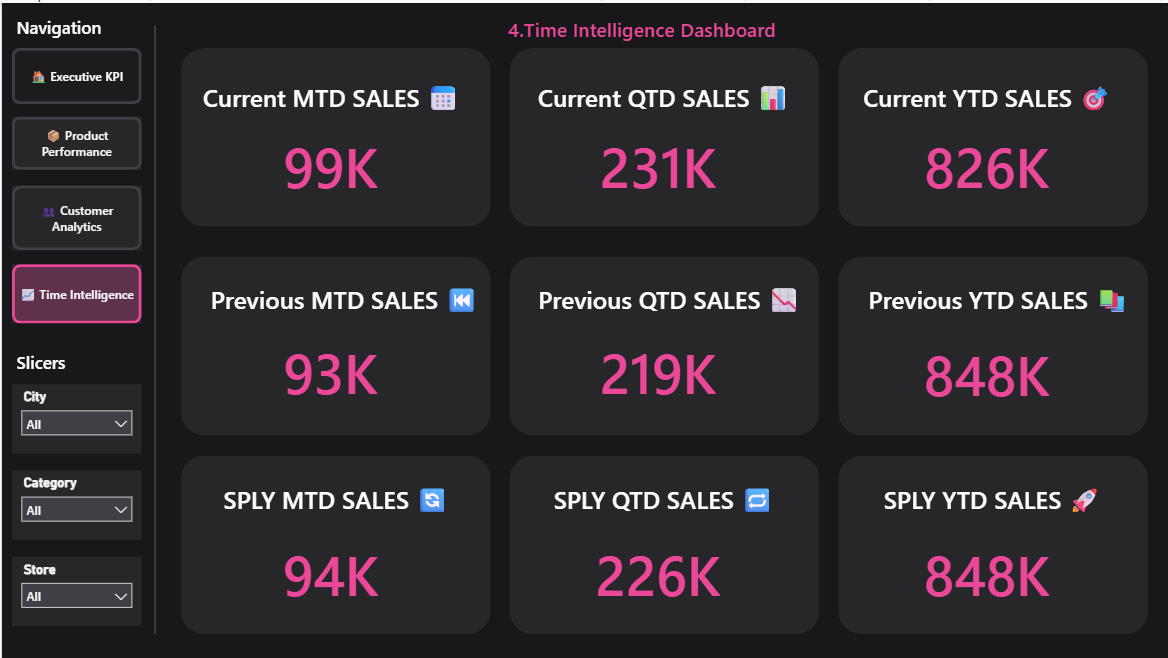

What the dashboard file says about the page in this screenshot:
{"tool":"powerbi","page":{"name":"Time Intelligence","canvas":[1280,720],"ordinal":4},"visuals":[{"type":"textbox","box":[10.7,9.5,118.4,40.3],"z":0},{"type":"actionButton","box":[10.7,49.7,142.1,61.6],"z":1000},{"type":"actionButton","box":[10.7,124.4,142.1,58],"z":2000},{"type":"actionButton","box":[10.7,200.1,142.1,71.1],"z":3000},{"type":"actionButton","box":[10.7,286.6,142.1,65.1],"z":4000},{"type":"textbox","box":[10.7,377.8,118.4,40.3],"z":5000},{"type":"slicer","fields":{"Values":["Fact_Sales.City"]},"box":[10.7,418.1,142.1,75.8],"z":6000},{"type":"slicer","fields":{"Values":["Fact_Sales.Category"]},"box":[10.7,512.8,142.1,75.8],"z":7000},{"type":"slicer","fields":{"Values":["Fact_Sales.Store"]},"box":[10.7,607.5,142.1,75.8],"z":8000},{"type":"shape","box":[99.5,24.9,138.6,667.9],"z":9000},{"type":"textbox","box":[183.6,9.5,1037.5,40.3],"z":10000},{"type":"shape","box":[196.2,49.4,340.3,196.2],"z":11000},{"type":"shape","box":[557.1,49.4,340.3,196.2],"z":12000},{"type":"shape","box":[918,49.4,340.3,196.2],"z":13000},{"type":"shape","box":[918,278.6,340.3,196.2],"z":14000},{"type":"shape","box":[557.1,278.6,340.3,196.2],"z":15000},{"type":"shape","box":[196.2,278.6,340.3,196.2],"z":16000},{"type":"shape","box":[918,496.7,340.3,196.2],"z":17000},{"type":"shape","box":[557.1,496.7,340.3,196.2],"z":18000},{"type":"shape","box":[196.2,496.7,340.3,196.2],"z":19000},{"type":"cardVisual","fields":{"Data":["Time intelligence.current_mtd"]},"box":[215.4,124.9,304.6,111.1],"z":20000},{"type":"cardVisual","fields":{"Data":["Time intelligence.current_ytd"]},"box":[935.9,124.9,304.6,111.1],"z":21000},{"type":"cardVisual","fields":{"Data":["Time intelligence.current_qtd"]},"box":[575,124.9,304.6,111.1],"z":22000},{"type":"cardVisual","fields":{"Data":["Time intelligence.prev_ytd"]},"box":[935.9,352.7,304.6,111.1],"z":23000},{"type":"cardVisual","fields":{"Data":["Time intelligence.prev_qtd"]},"box":[575,351.3,304.6,111.1],"z":24000},{"type":"cardVisual","fields":{"Data":["Time intelligence.prev_mtd"]},"box":[215.4,351.3,304.6,111.1],"z":25000},{"type":"cardVisual","fields":{"Data":["Time intelligence.sply_ytd"]},"box":[935.9,572.2,304.6,111.1],"z":26000},{"type":"cardVisual","fields":{"Data":["Time intelligence.sply_qtd"]},"box":[575,572.2,304.6,111.1],"z":27000},{"type":"cardVisual","fields":{"Data":["Time intelligence.sply_mtd"]},"box":[215.4,572.2,304.6,111.1],"z":28000},{"type":"textbox","box":[215.4,81,292.3,57.6],"z":29000},{"type":"textbox","box":[580.4,81,292.3,57.6],"z":30000},{"type":"textbox","box":[935.9,81,292.3,57.6],"z":31000},{"type":"textbox","box":[935.9,301.9,315.6,57.6],"z":32000},{"type":"textbox","box":[575,301.9,315.6,57.6],"z":33000},{"type":"textbox","box":[215.4,301.9,321.1,57.6],"z":34000},{"type":"textbox","box":[941.3,521.4,292.3,57.6],"z":35000},{"type":"textbox","box":[580.4,521.4,292.3,57.6],"z":36000},{"type":"textbox","box":[220.9,521.4,292.3,57.6],"z":37000}]}

Visuals, with their boxes on the page's 1280x720 design canvas (x1, y1, x2, y2). These are canvas units, not pixel positions in the 1168x658 screenshot, which may show the page scaled, cropped or inside an application window:
textbox: 11 10 129 50
actionButton: 11 50 153 111
actionButton: 11 124 153 182
actionButton: 11 200 153 271
actionButton: 11 287 153 352
textbox: 11 378 129 418
slicer - Fact_Sales.City: 11 418 153 494
slicer - Fact_Sales.Category: 11 513 153 589
slicer - Fact_Sales.Store: 11 608 153 683
shape: 100 25 238 693
textbox: 184 10 1221 50
shape: 196 49 536 246
shape: 557 49 897 246
shape: 918 49 1258 246
shape: 918 279 1258 475
shape: 557 279 897 475
shape: 196 279 536 475
shape: 918 497 1258 693
shape: 557 497 897 693
shape: 196 497 536 693
cardVisual - Time intelligence.current_mtd: 215 125 520 236
cardVisual - Time intelligence.current_ytd: 936 125 1240 236
cardVisual - Time intelligence.current_qtd: 575 125 880 236
cardVisual - Time intelligence.prev_ytd: 936 353 1240 464
cardVisual - Time intelligence.prev_qtd: 575 351 880 462
cardVisual - Time intelligence.prev_mtd: 215 351 520 462
cardVisual - Time intelligence.sply_ytd: 936 572 1240 683
cardVisual - Time intelligence.sply_qtd: 575 572 880 683
cardVisual - Time intelligence.sply_mtd: 215 572 520 683
textbox: 215 81 508 139
textbox: 580 81 873 139
textbox: 936 81 1228 139
textbox: 936 302 1252 360
textbox: 575 302 891 360
textbox: 215 302 536 360
textbox: 941 521 1234 579
textbox: 580 521 873 579
textbox: 221 521 513 579
